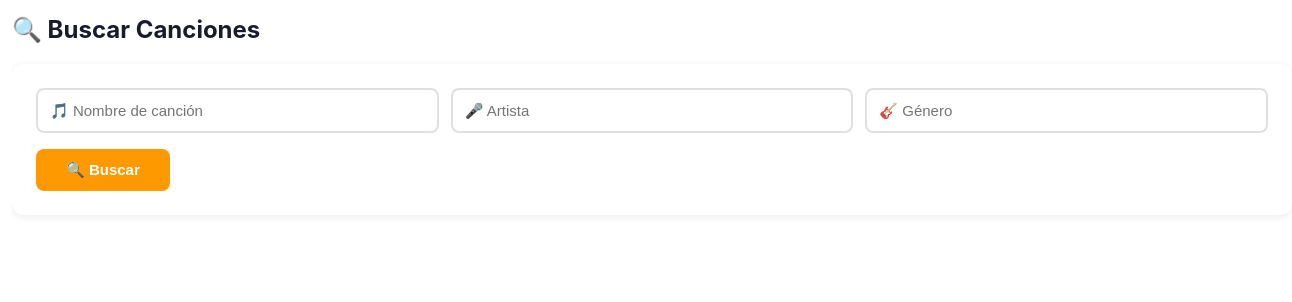
Scenario: SearchTracks › muestra error si busca sin criterios
This screenshot has width=1292, height=302.
Click the button "🔍 Buscar".
click(103, 170)  # box [36,149,170,191]
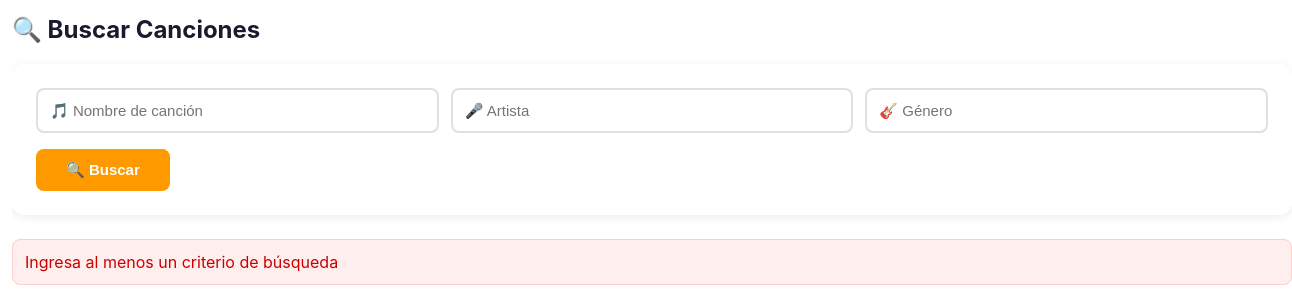
Expected: the text "Ingresa al menos un criterio de búsqueda" is shown, [12,239,1291,285]
